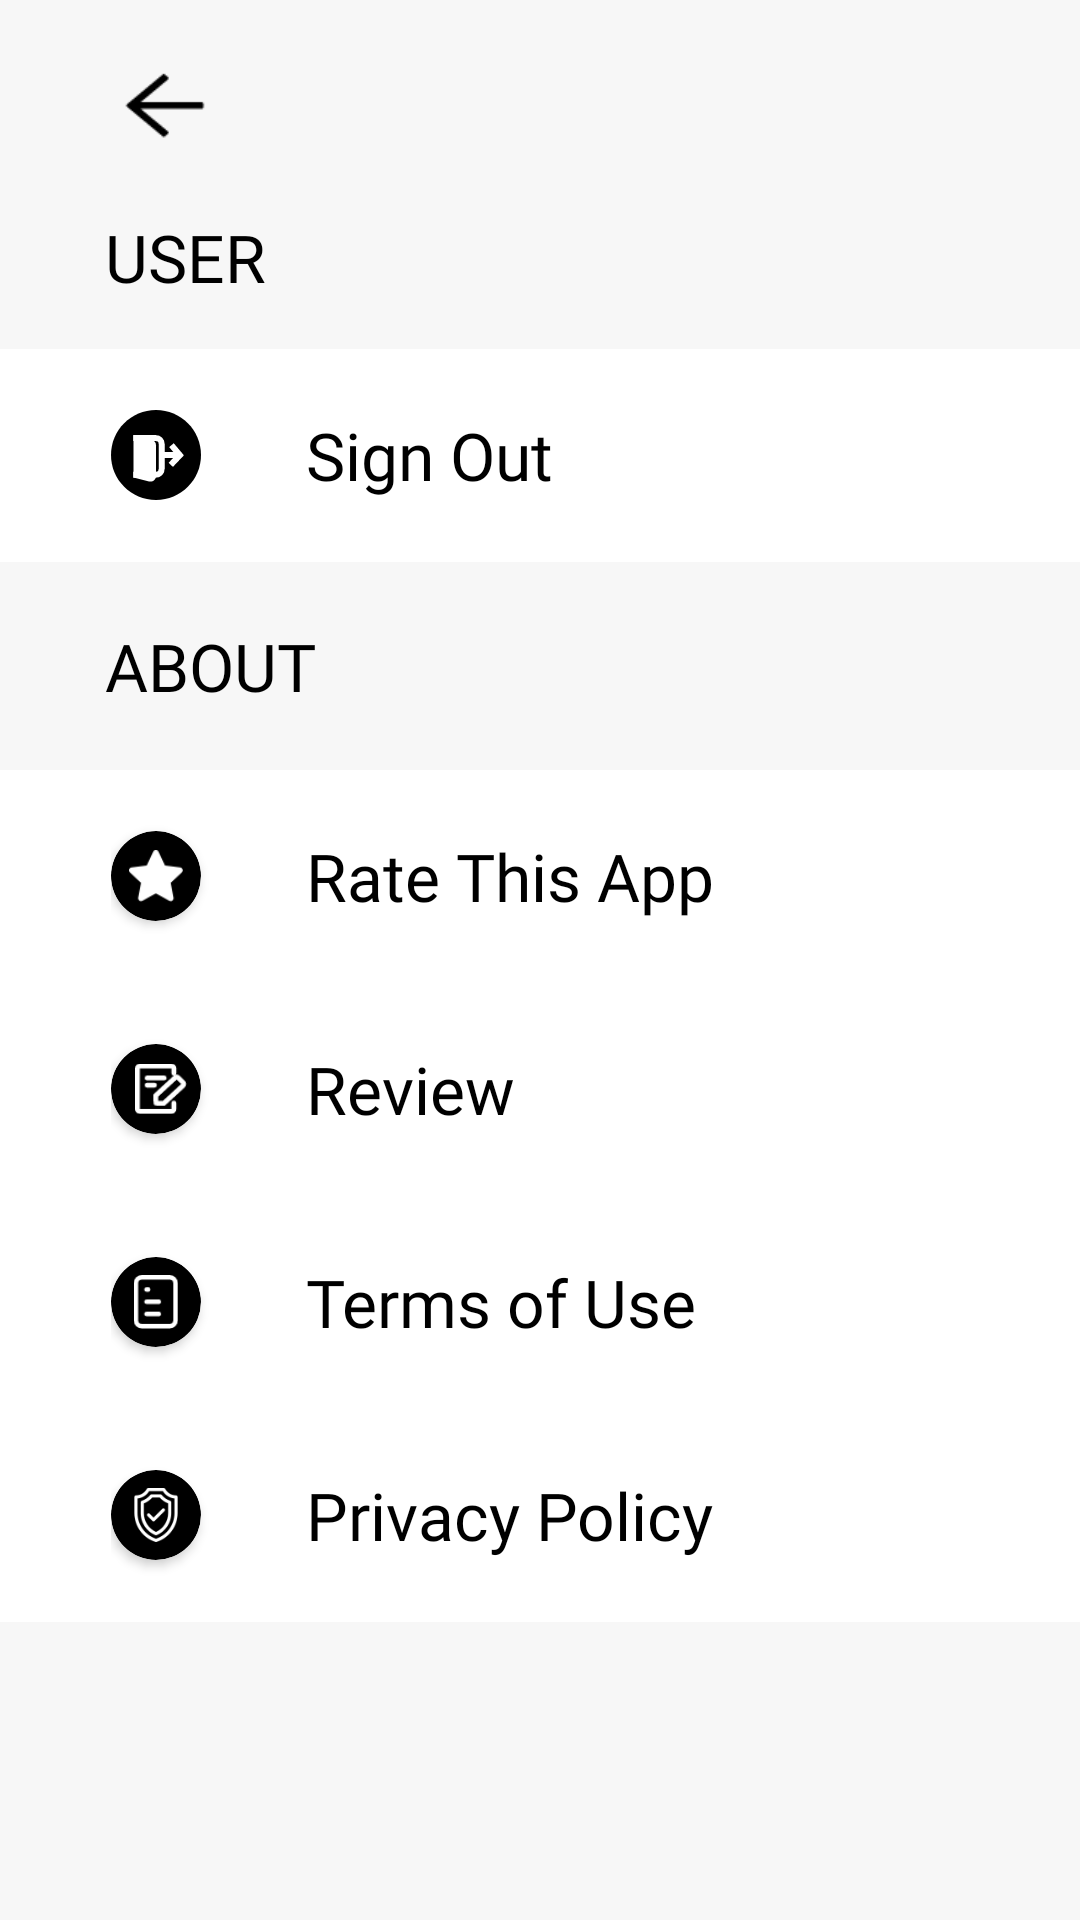

Named icons in this screenshot (1080px×1920px) and their centers, (x=x, y=y):
back: (x=165, y=105)
insurance: (x=156, y=1515)
tearms: (x=156, y=1302)
